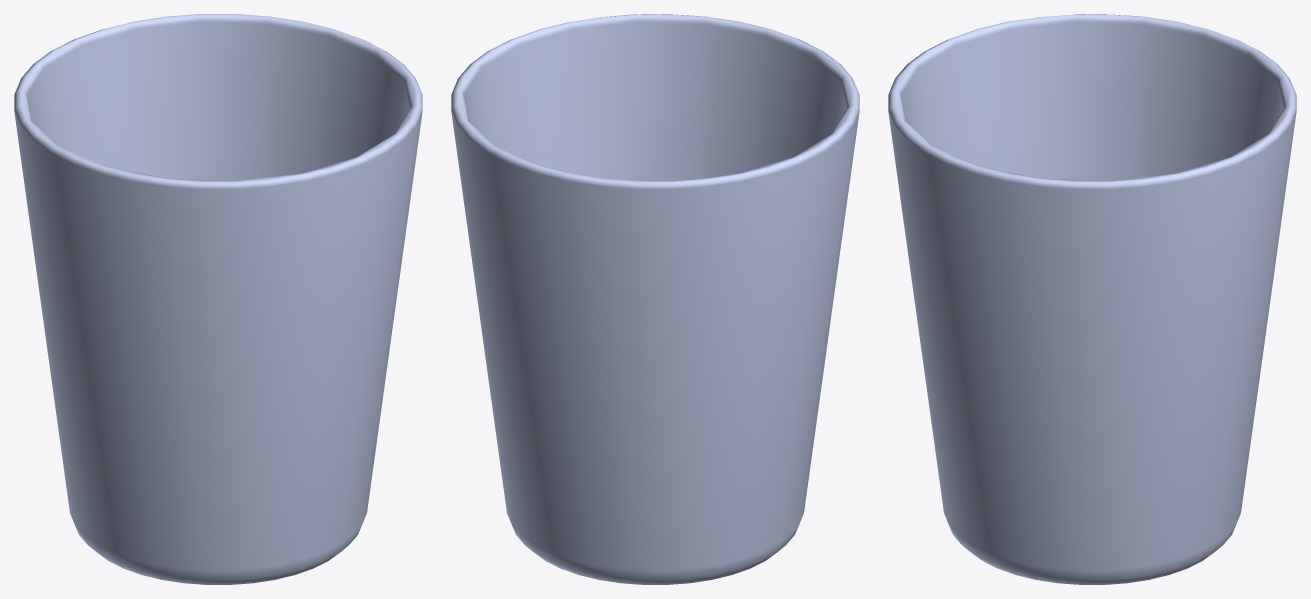
Rendered from Blauwbeker.fbx.
3 renders of one model, left to right at view 1: azimuth 30°, elevation 25°; view 2: azimuth 150°, elevation 25°; view 3: azimuth 270°, elevation 25°, orthographic.
Visible parts, largest first — view 1: Group1; view 2: Group1; view 3: Group1.
Boxes of the visible parts, <box> form: Group1: <box>14,14,422,584</box>; Group1: <box>451,14,859,584</box>; Group1: <box>888,14,1296,584</box>.
Bounding box in the file's own units: 2.28 × 2.69 × 2.28.
